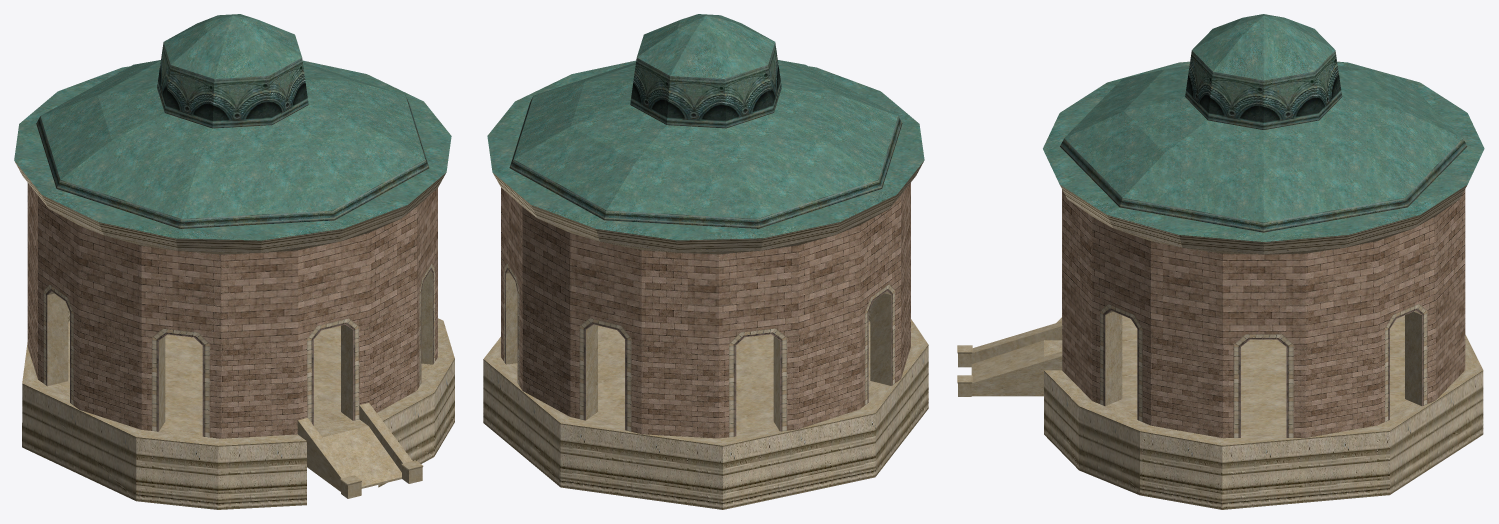
Rendered from thm_nboo_thed_imprv_building_s02_l1.fbx.
The picture shows the model from 3 angles, left to right: view 1: azimuth 30°, elevation 25°; view 2: azimuth 150°, elevation 25°; view 3: azimuth 270°, elevation 25°; orthographic projection.
Parts seen in each view (by area): view 1: mesh_node; view 2: mesh_node; view 3: mesh_node.
Part boxes in pixels (x1,y1,x2,y2): mesh_node: (14,14,454,509); mesh_node: (483,14,928,509); mesh_node: (957,14,1484,509).
Size of the model in its own units: 13.15 by 13.18 by 15.69.
